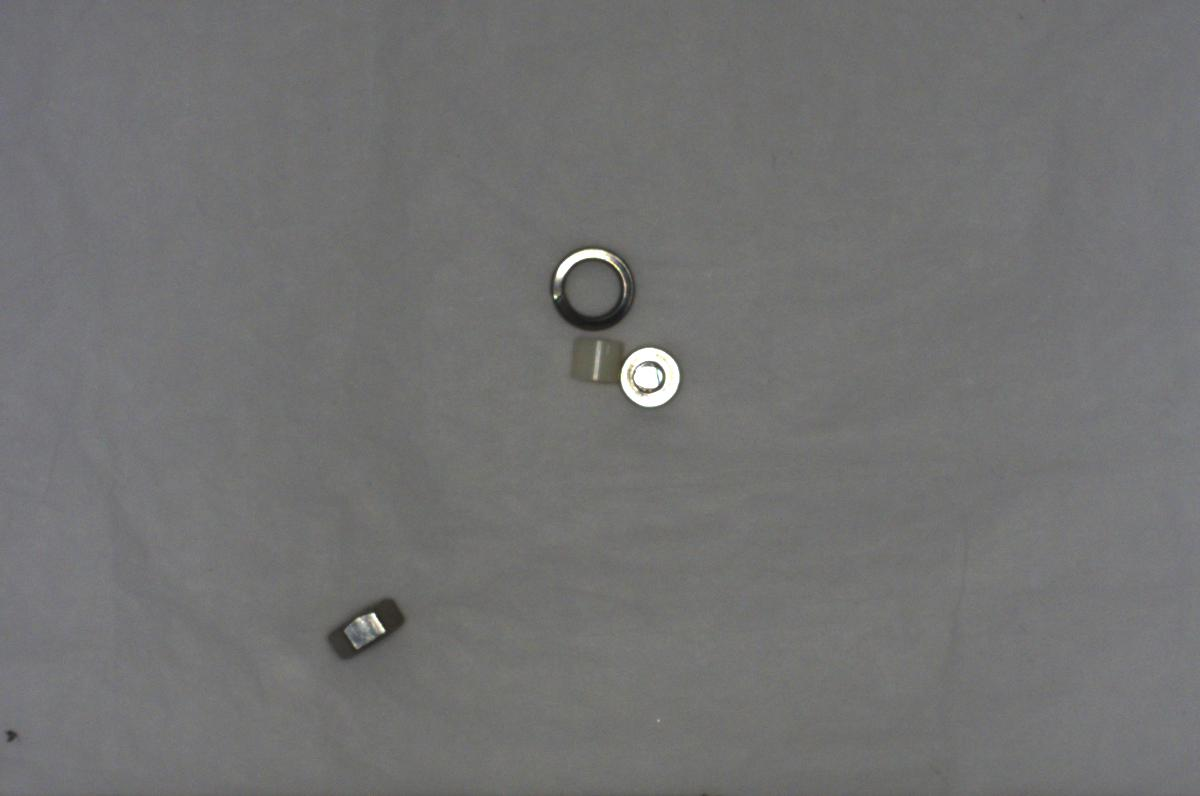Hexagon nut: (325, 589, 406, 667)
Plastic cushion pillar: (554, 329, 622, 387)
Round head screw: (619, 336, 684, 418)
Spring washer: (544, 241, 645, 332)
